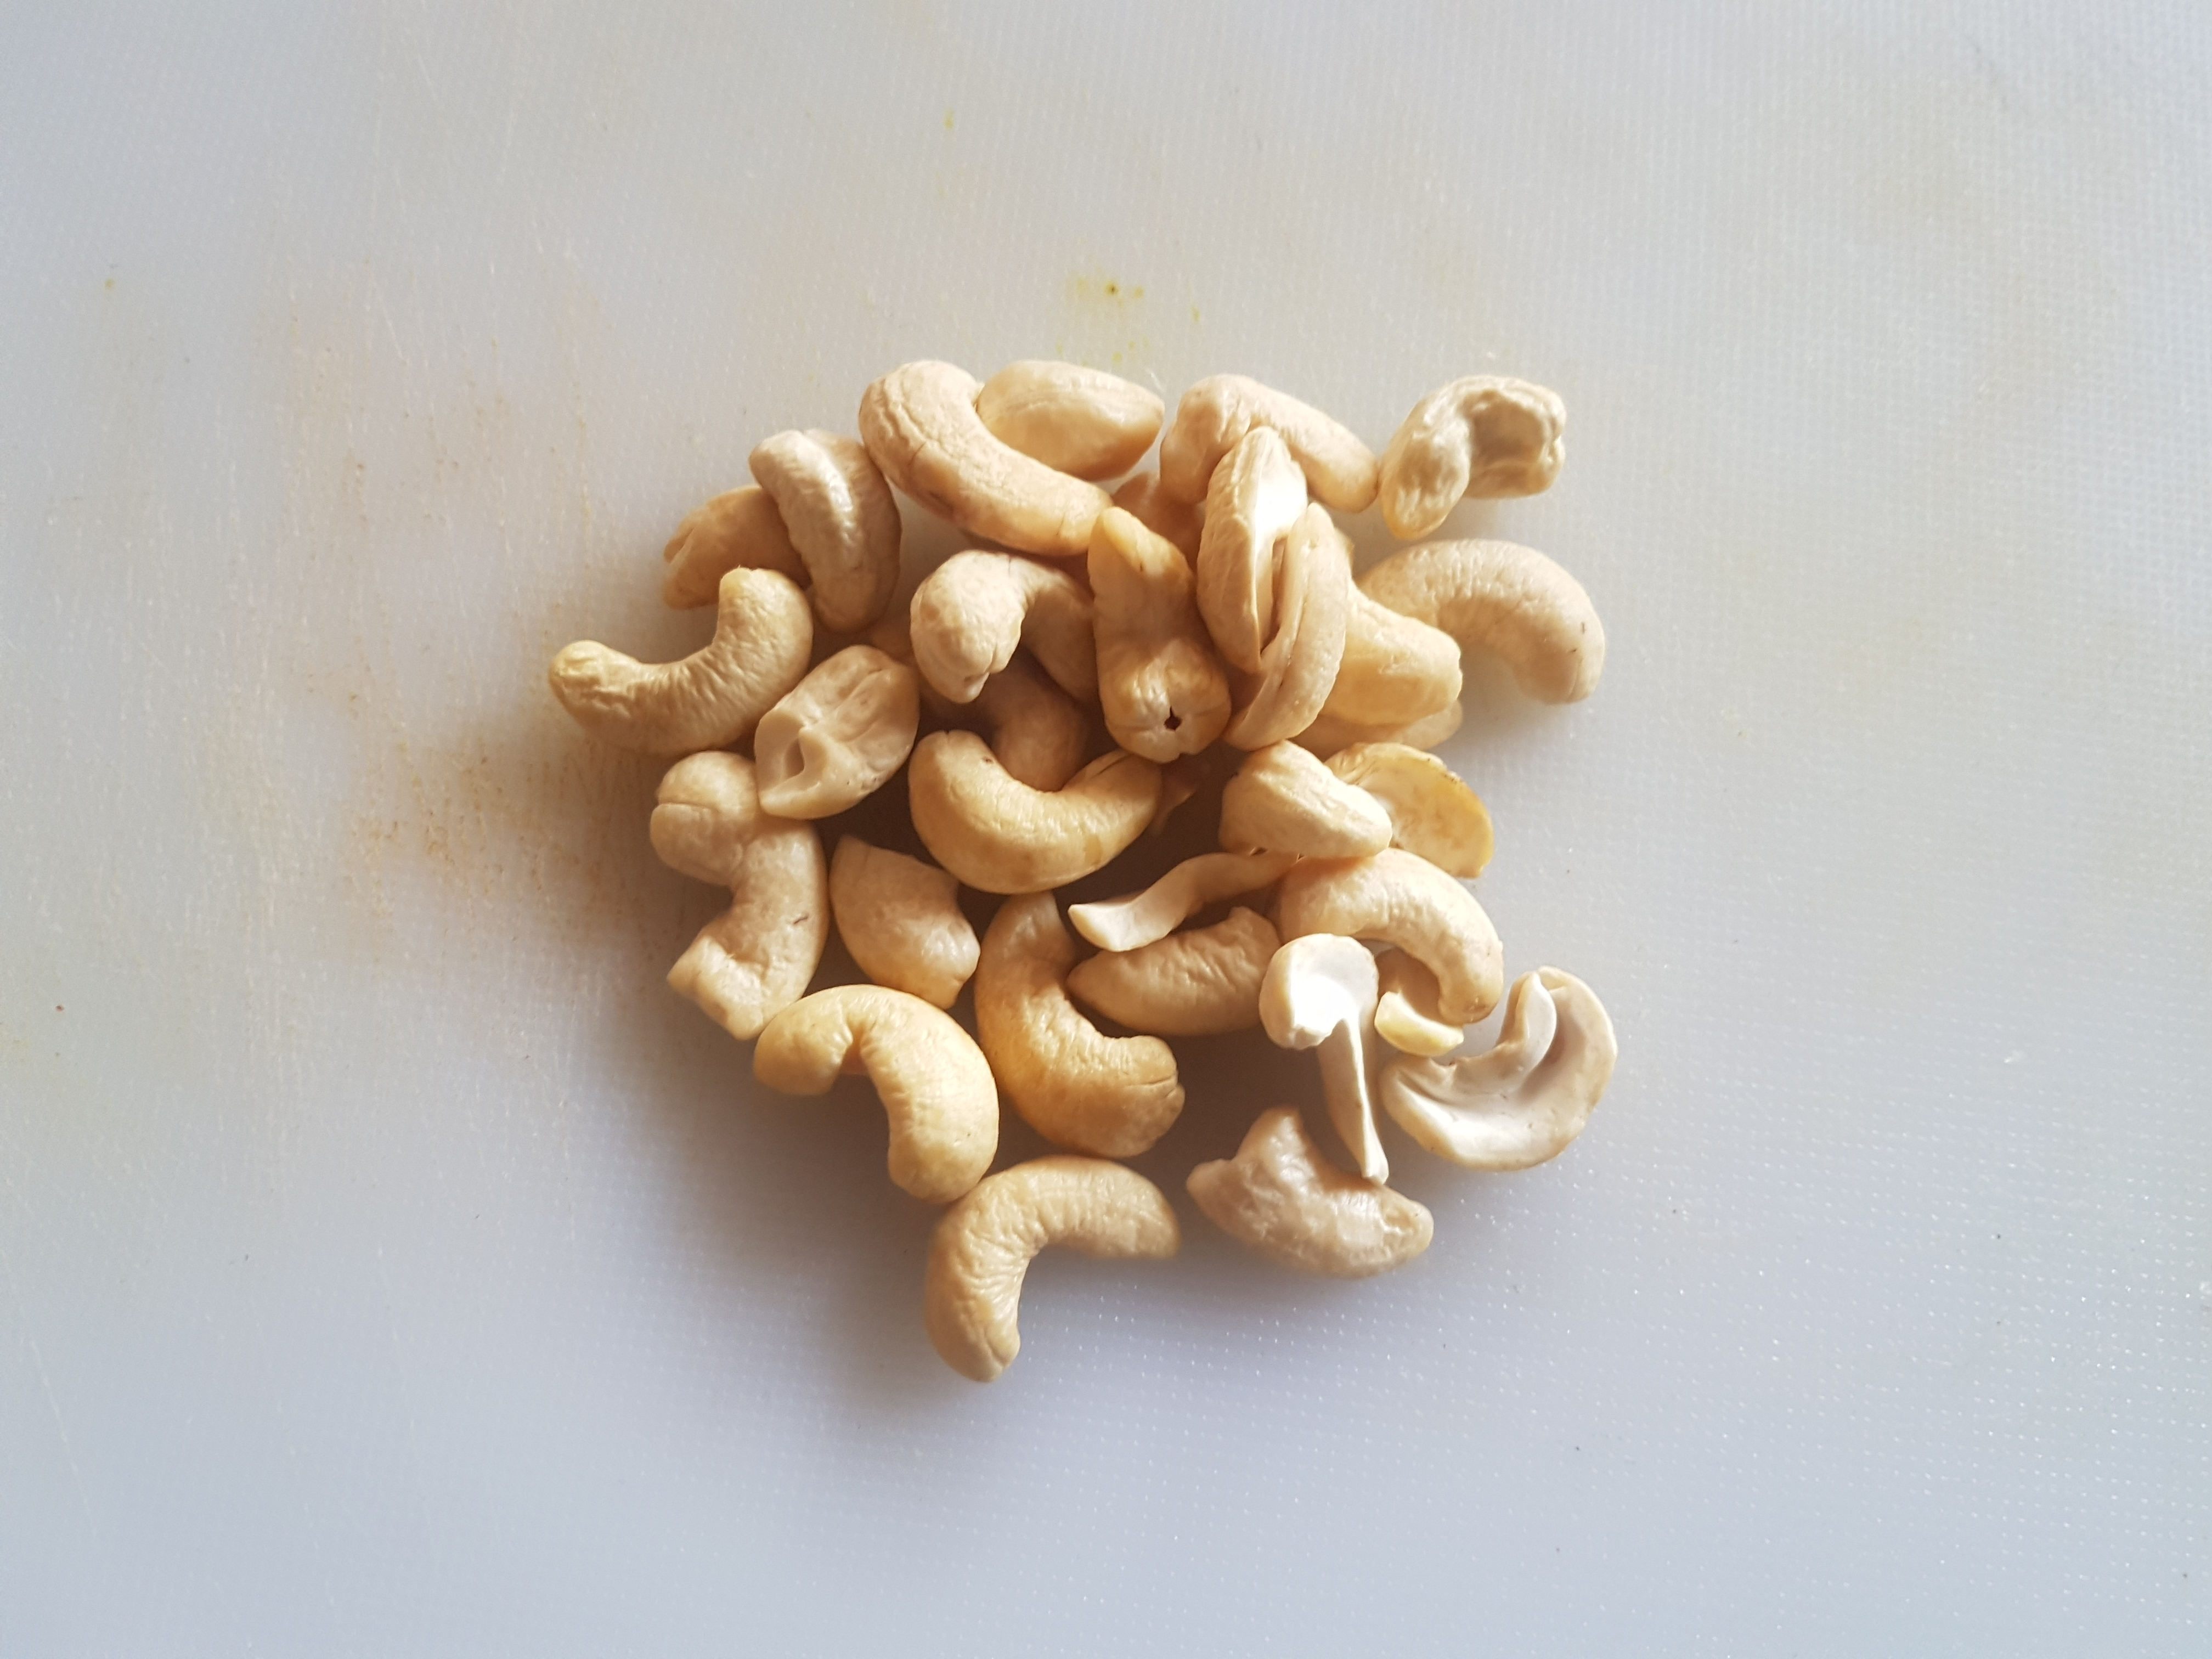Cashew: (428, 242, 1738, 1419)
